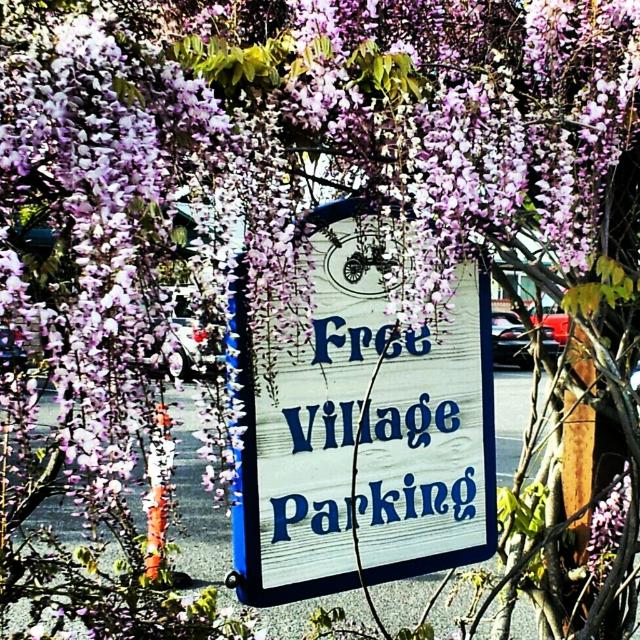Flower: (1, 1, 640, 323), (4, 326, 248, 494), (578, 462, 632, 524)
